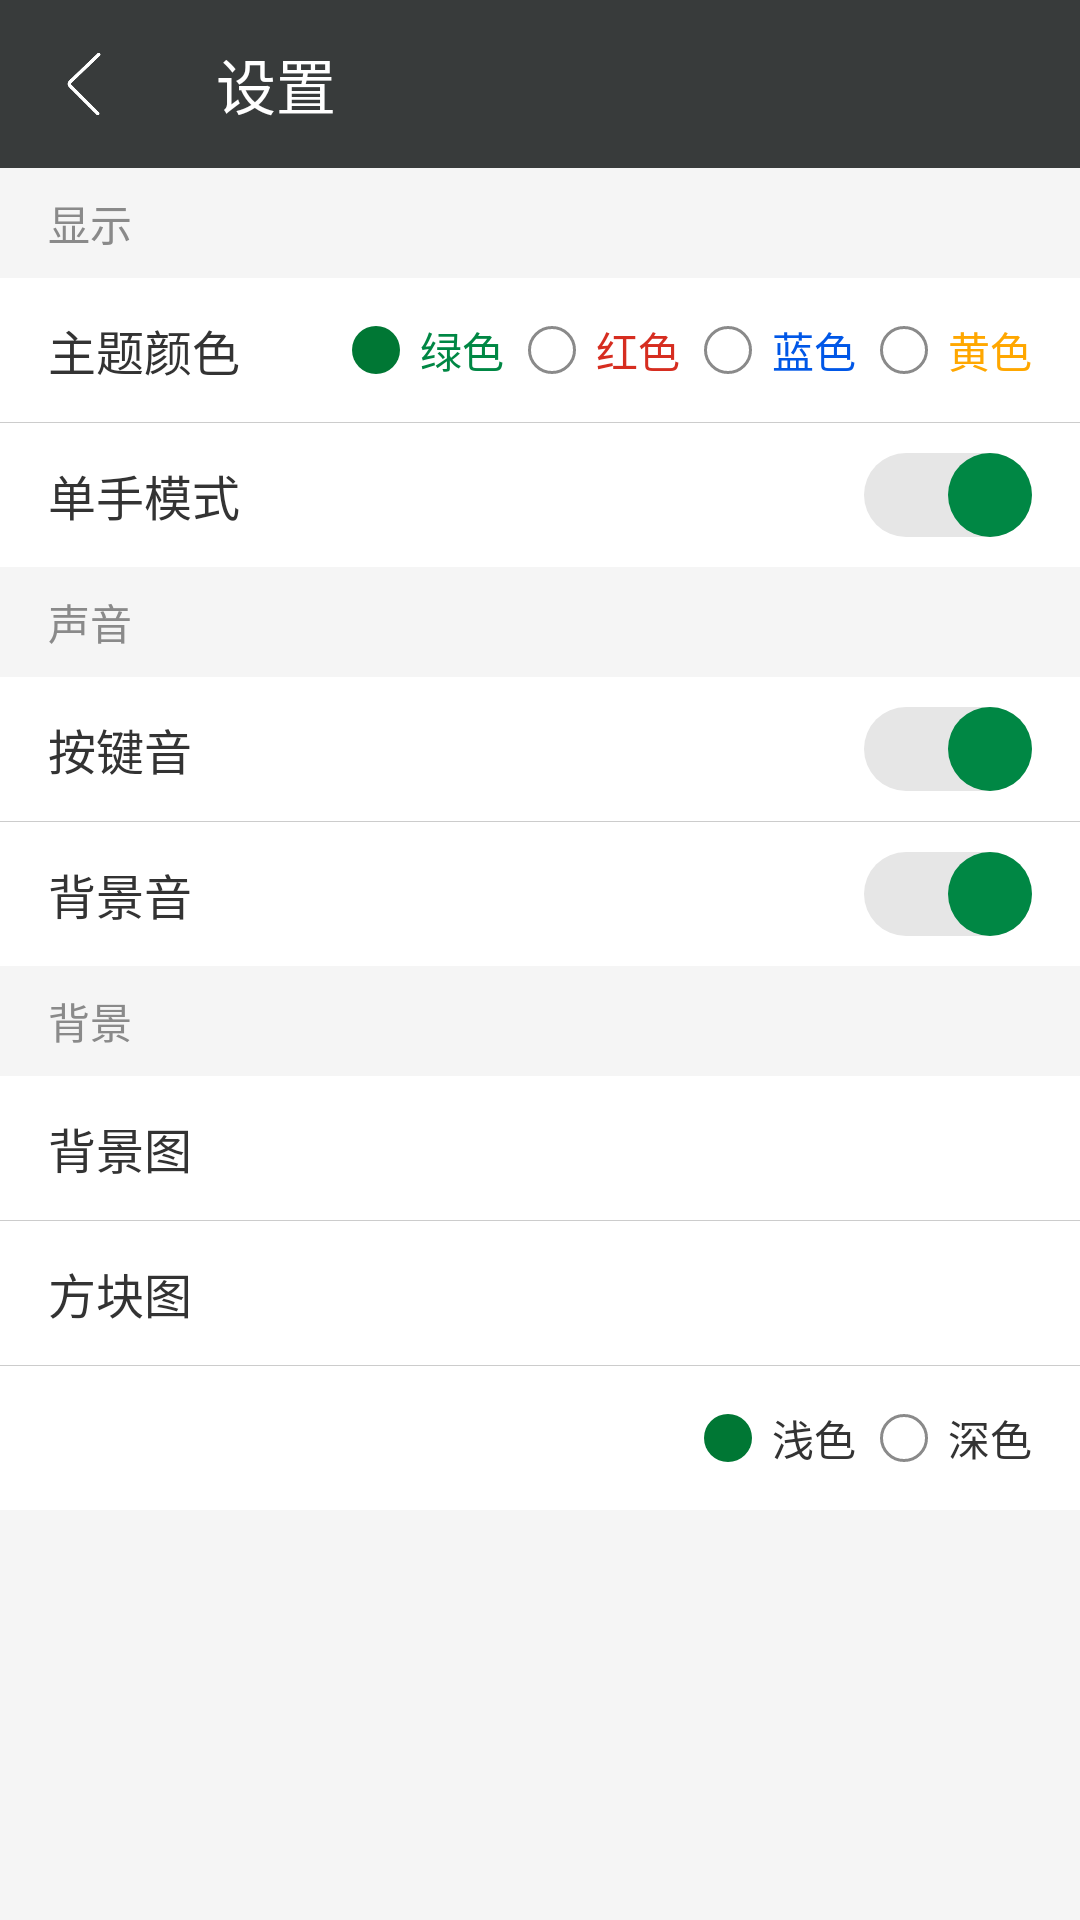

Locate icon controls on the screen. Image size 1080x1920, boxes as (x1, y1, x2, y2).
left: (67, 53, 101, 115)
